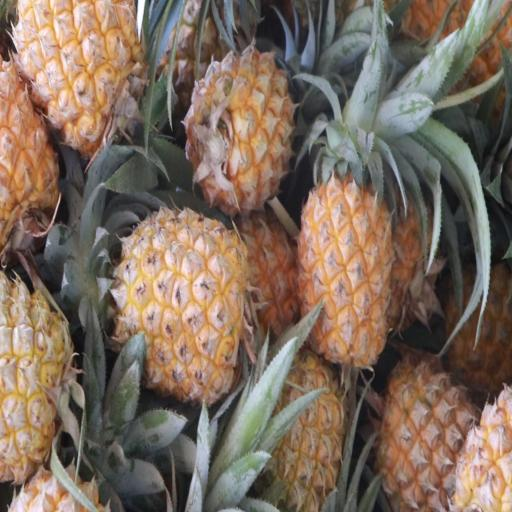------------------------------: (382, 361, 485, 512)
Pineapple - v8 v1: (115, 210, 244, 398), (298, 172, 396, 374), (13, 0, 140, 146), (189, 50, 292, 208), (0, 278, 75, 478), (260, 354, 345, 512), (0, 60, 61, 256)
